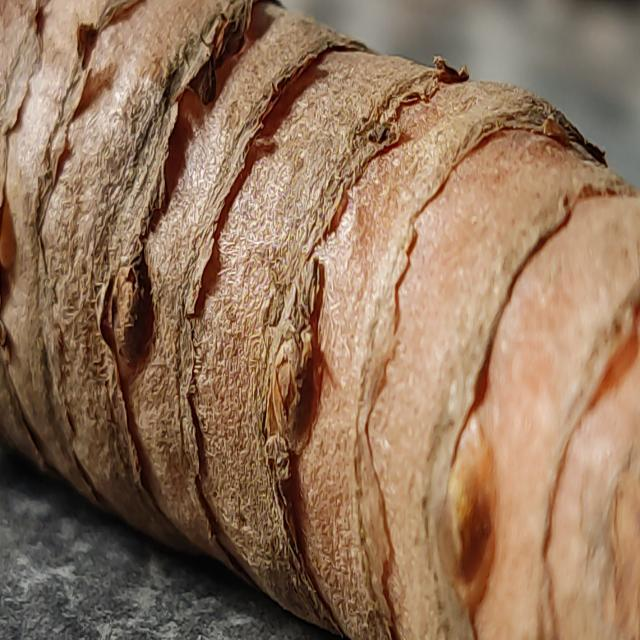ginger: (0, 6, 640, 596)
